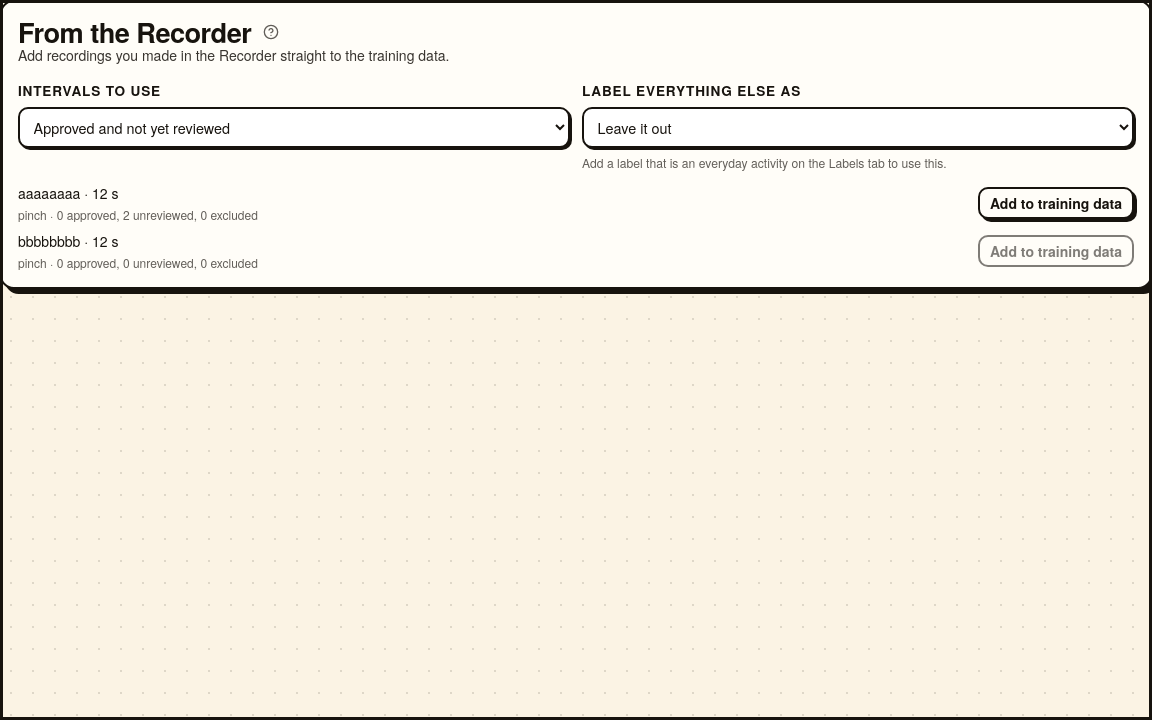
Test: RecorderRecordings › shows the desktop's refusal, such as an unchanged recording added twice
Click the button "Add to training data" in the row of "aaaaaaaa".
click(1056, 203)  # box [978,187,1134,219]
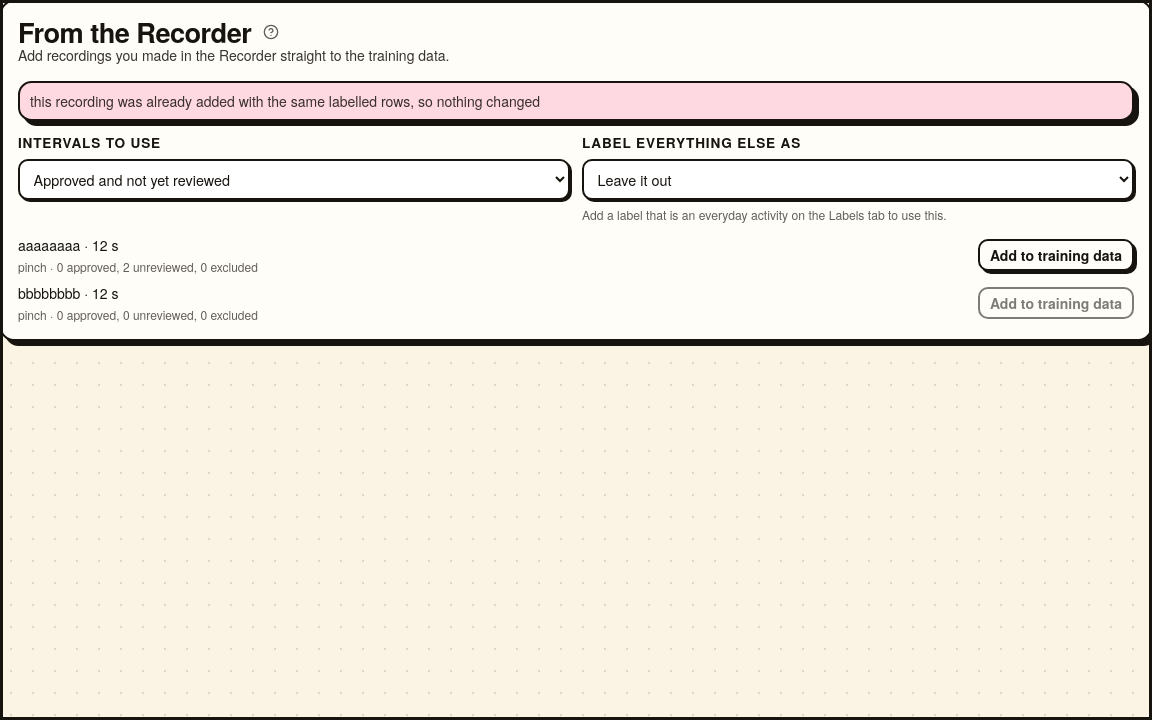
Check: the message shows "already added", box [30,91,540,111]
